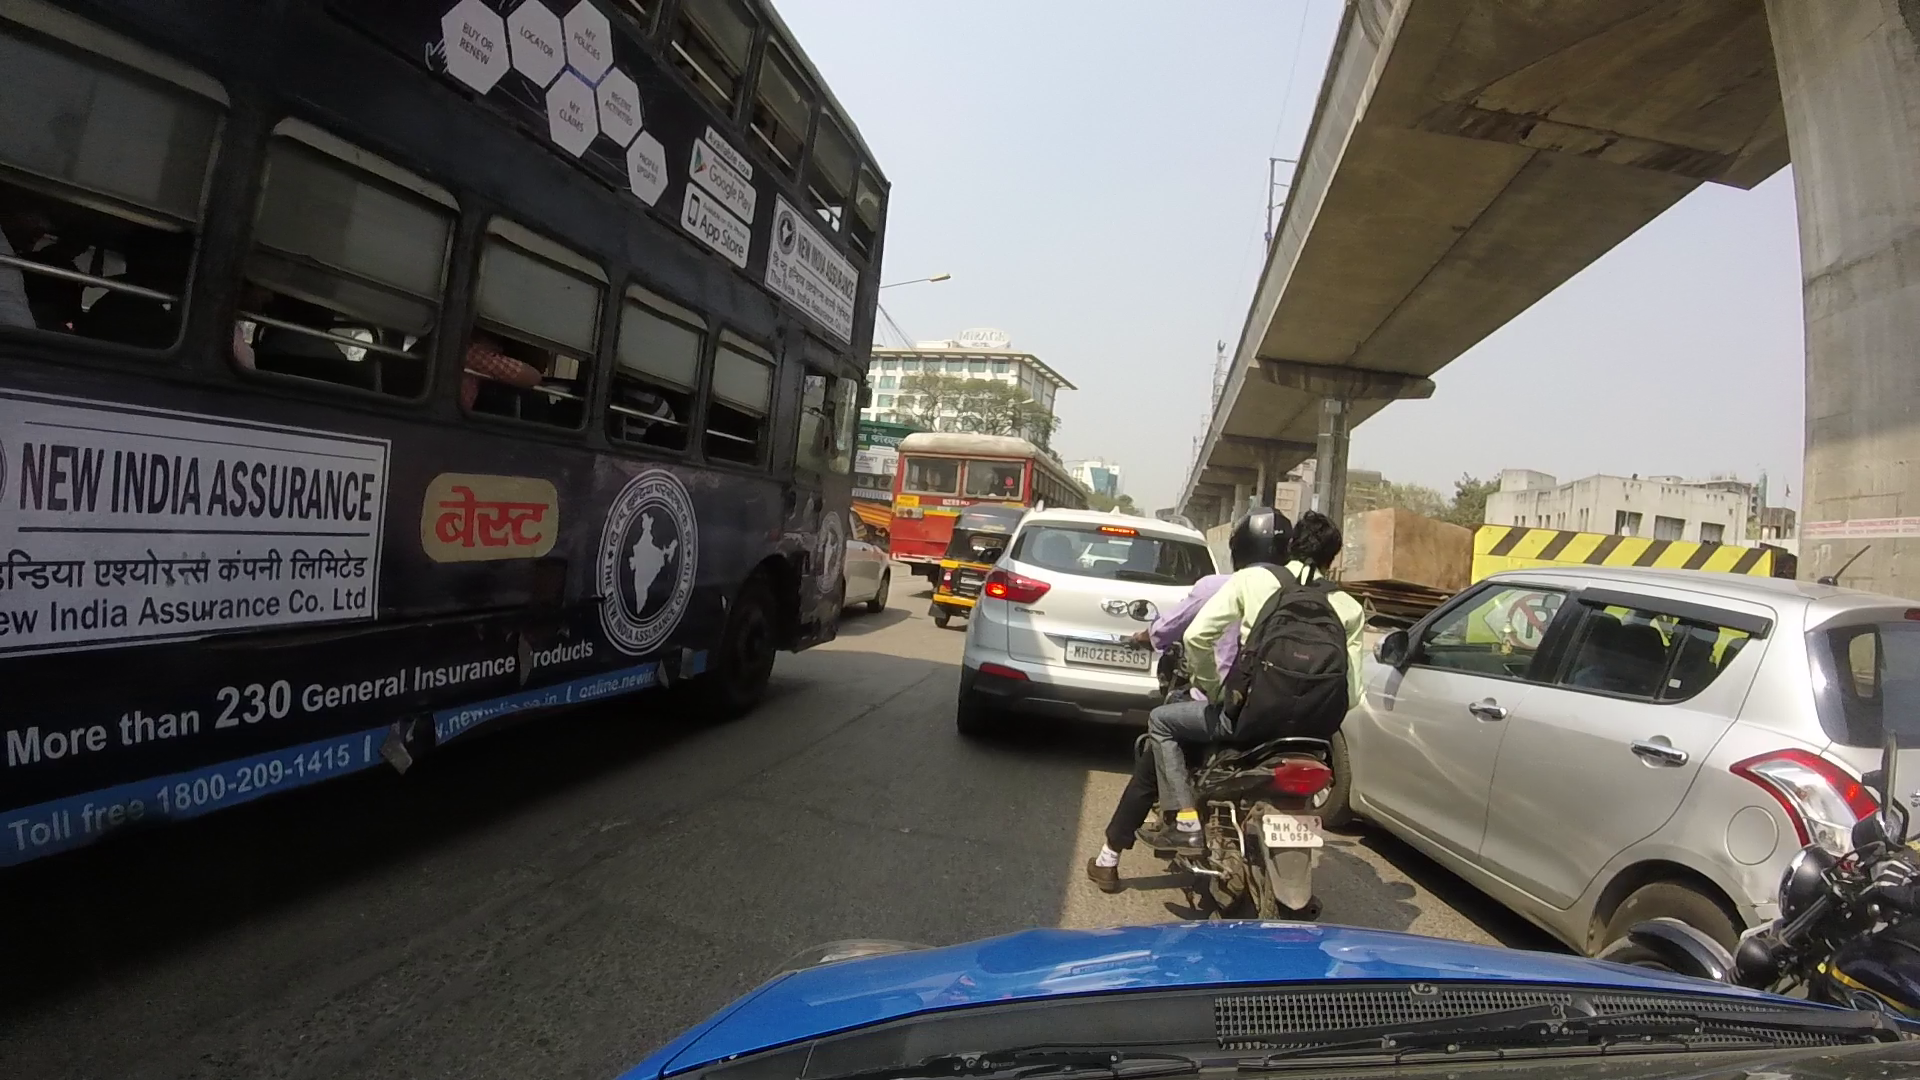bike/scooter: (1112, 527, 1389, 916), (1733, 771, 1920, 1017)
bus: (4, 4, 898, 878), (887, 415, 1058, 570)
car: (1362, 541, 1909, 945), (972, 512, 1222, 731), (841, 498, 902, 621)
rickshaw: (930, 497, 1033, 620)
